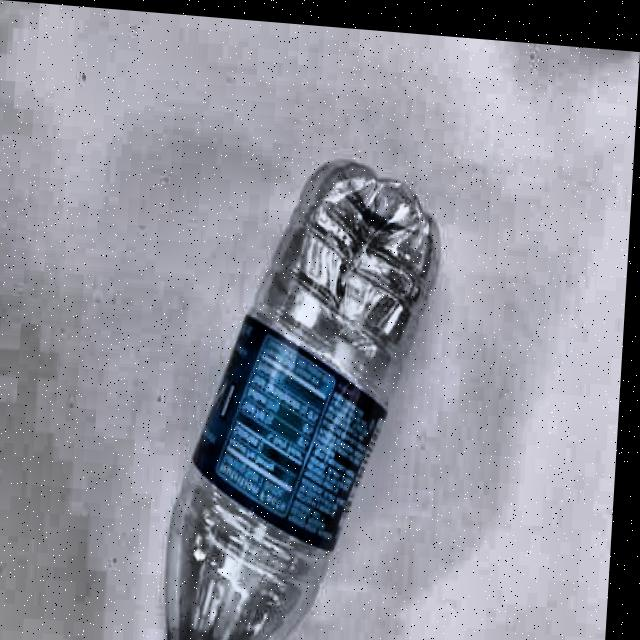plastic: (156, 143, 450, 640)
